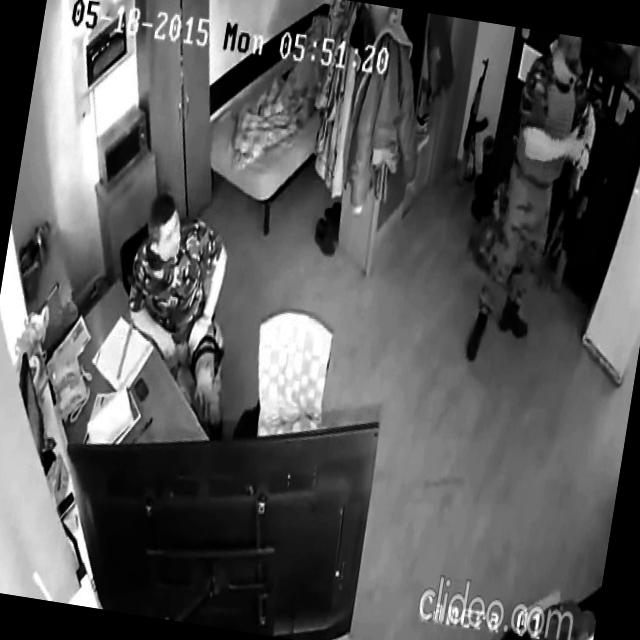gun: (550, 103, 598, 294), (455, 52, 500, 192)
person: (106, 186, 260, 442)
person with a gun: (463, 27, 609, 377)
